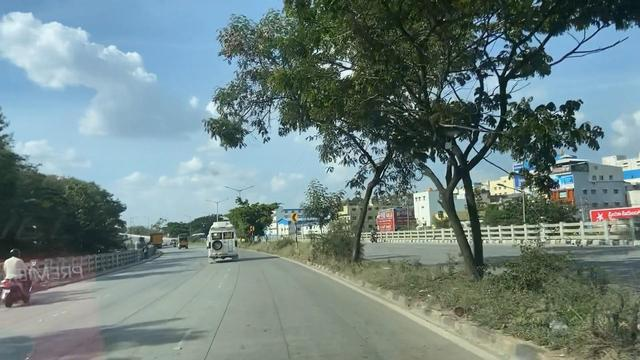HMV: (202, 213, 238, 261)
LMV: (3, 245, 30, 303)
